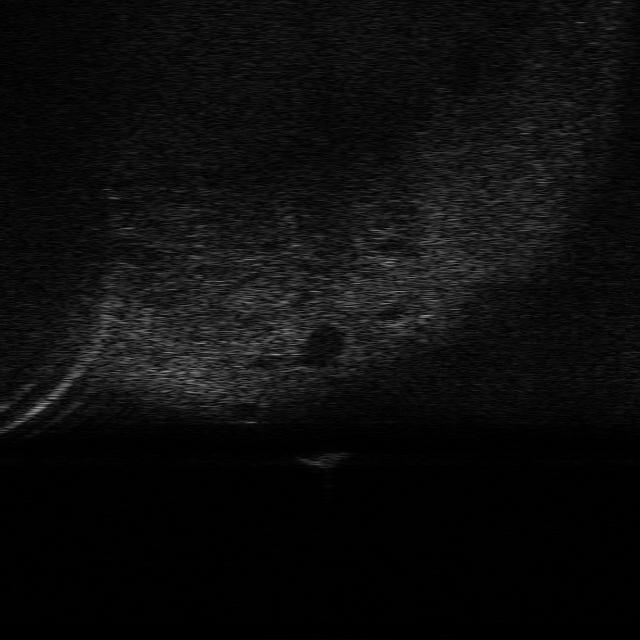cube: (295, 452, 351, 468)
